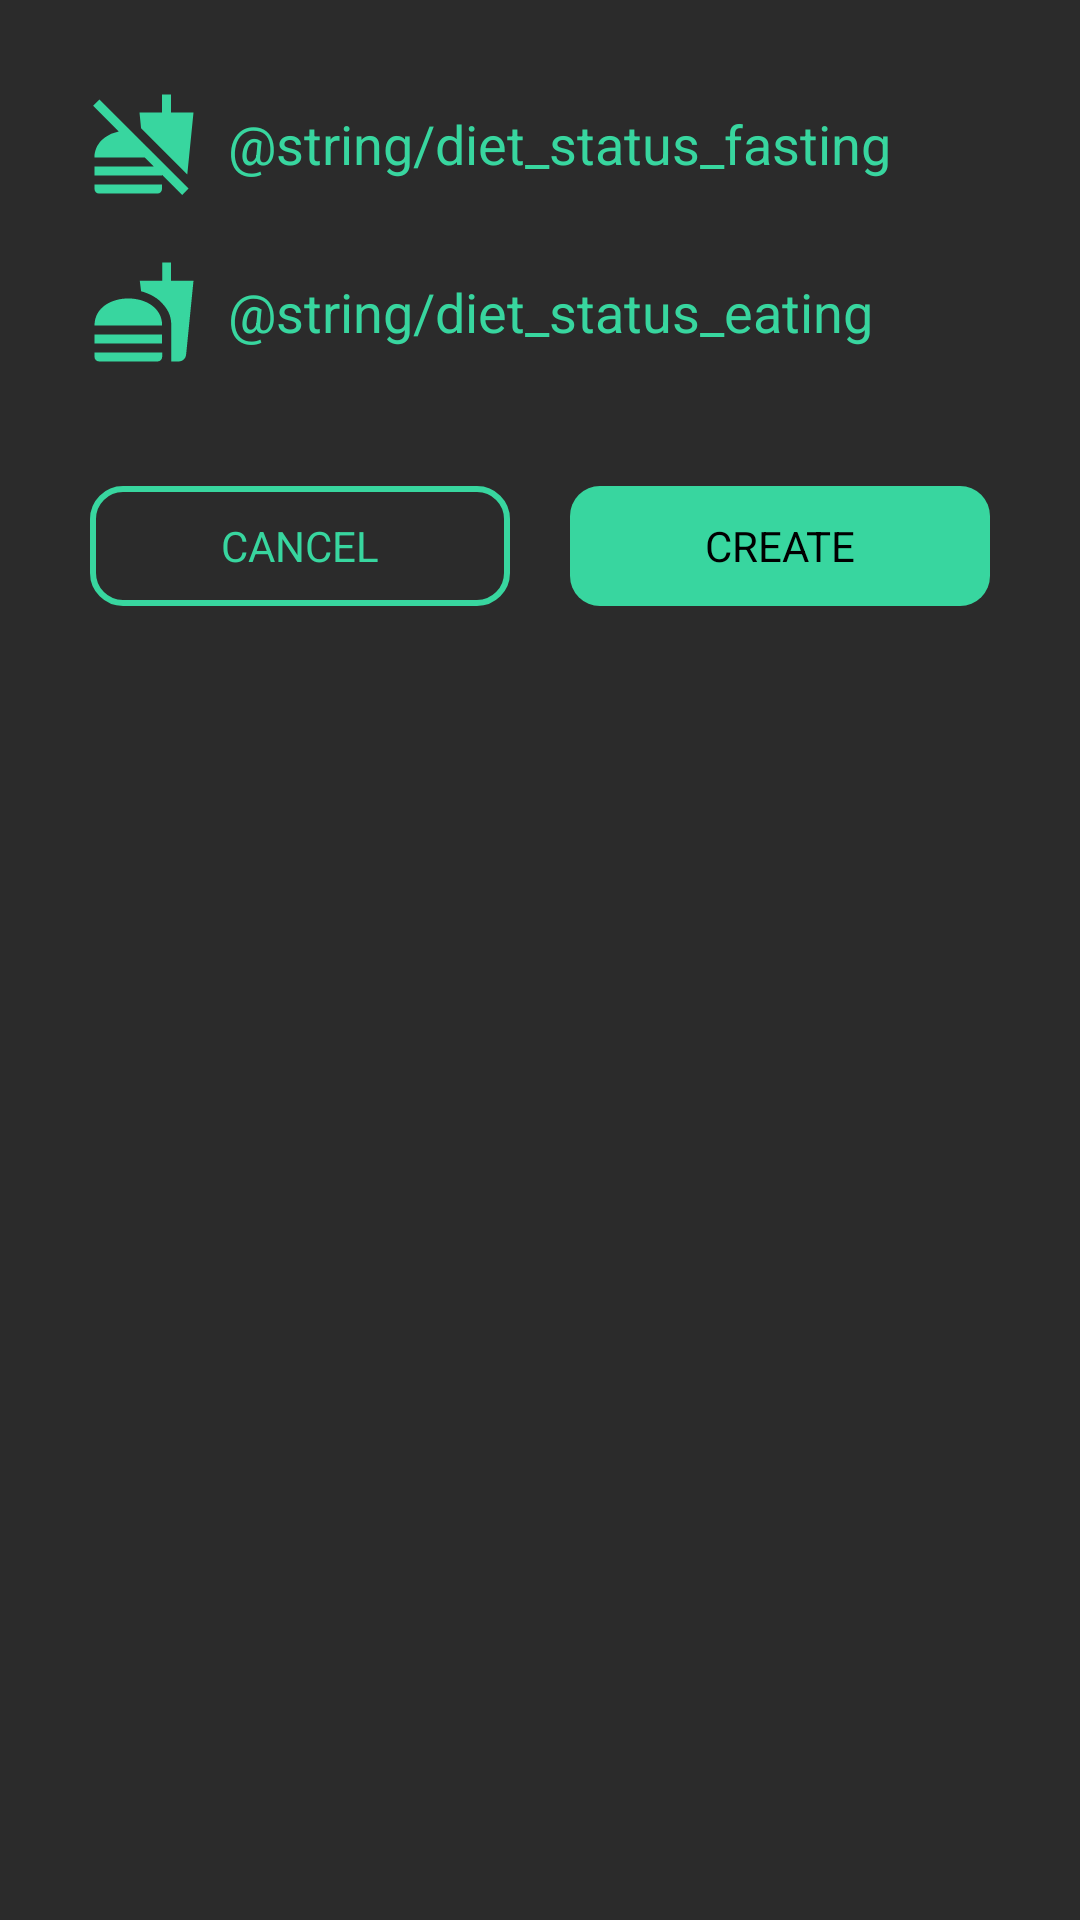

Named icons in this screenshot (1080w x 1920h) and their bounding boxes, (x1, y1, x2, y2):
fastfood: (94, 262, 194, 362)
no food: (93, 94, 194, 195)
